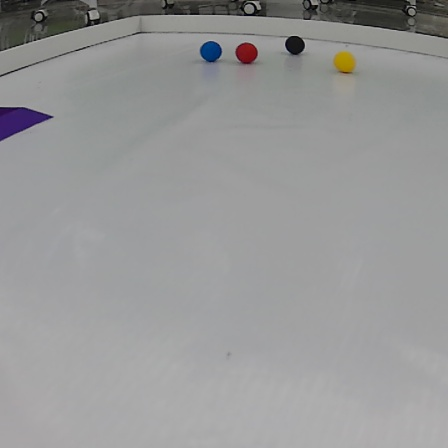black: (283, 32, 306, 56)
blue: (198, 40, 226, 64)
red: (234, 42, 258, 67)
yellow: (331, 50, 359, 73)
